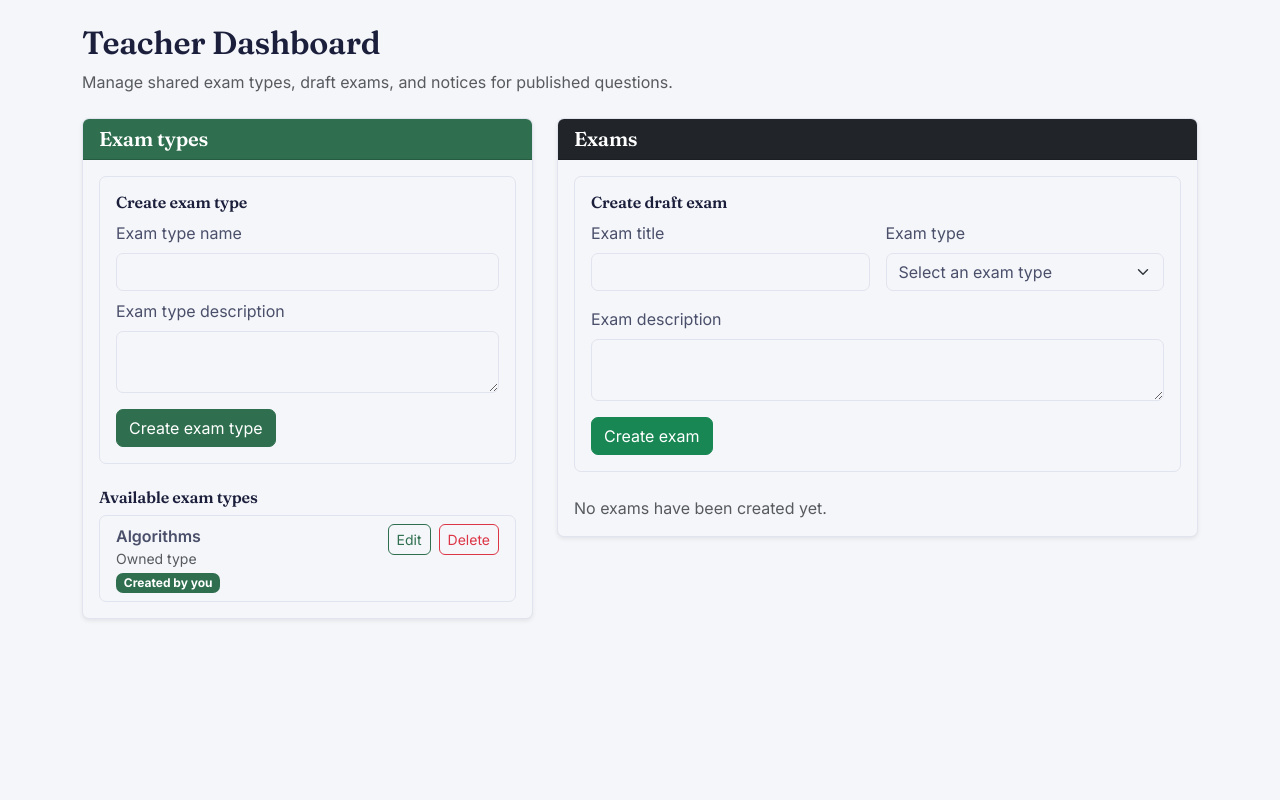
it: exam-type management › keeps the type visible when deletion returns a safe API error
Expected: the heading "Exam types" is shown, [99,126,208,151]
Click the button "Delete" at {"x": 469, "y": 539}, box [439,524,499,555]
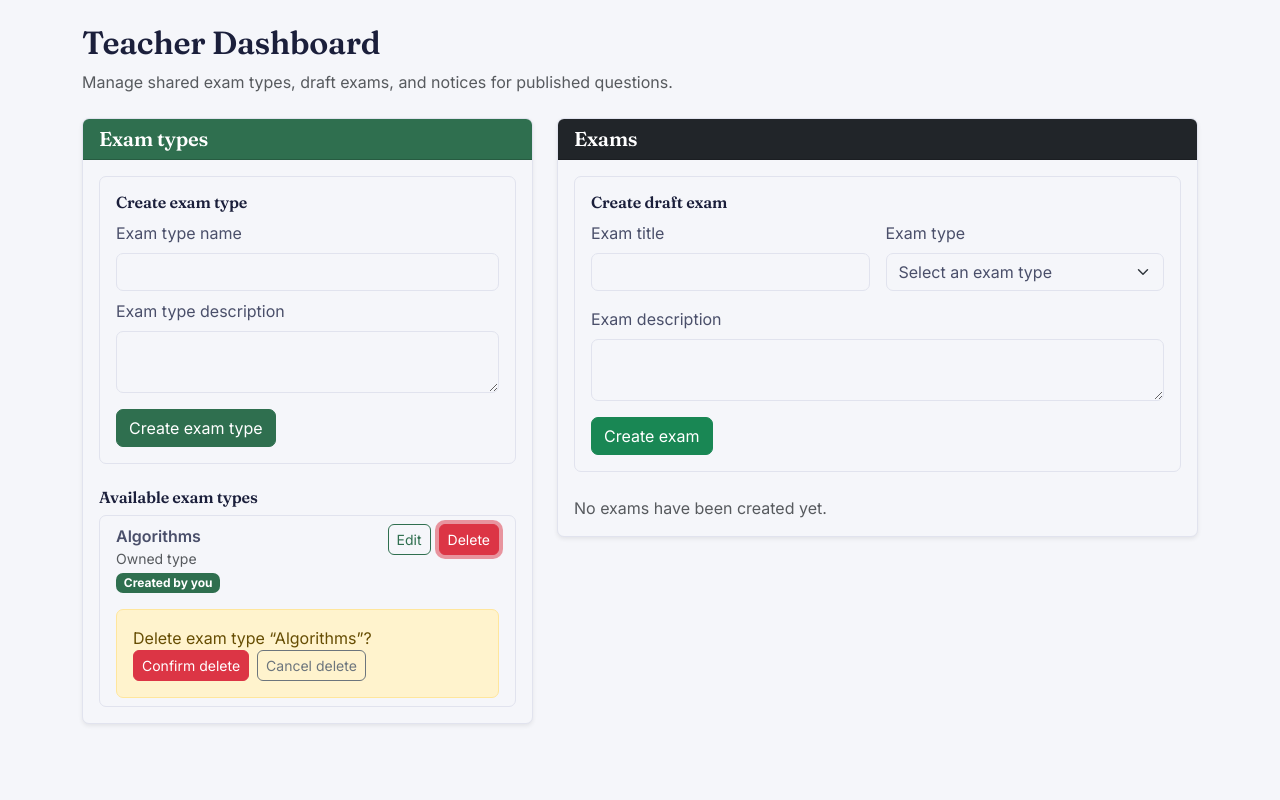
Click the button "Confirm delete" at {"x": 191, "y": 666}, box [133,650,249,681]
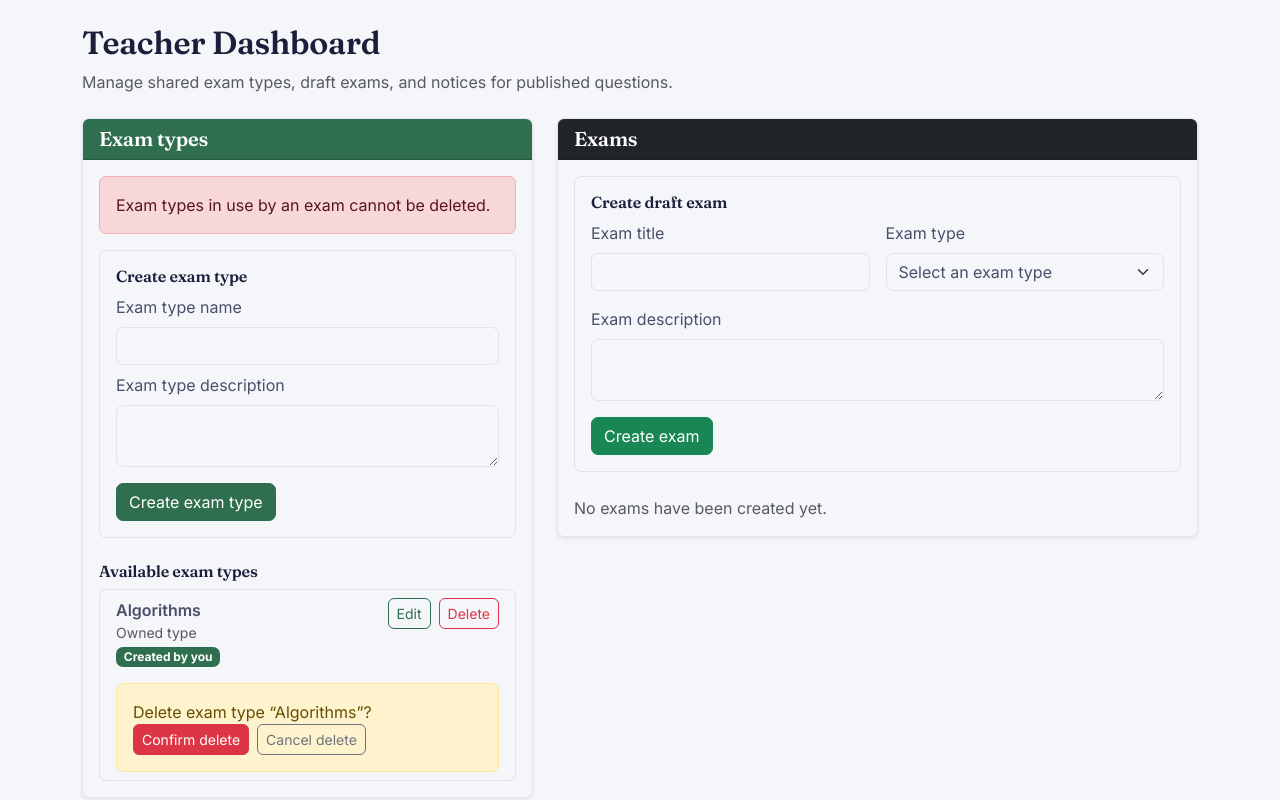
Expected: the text "Algorithms" is shown, [116,600,201,620]
Expected: the text "Exam types in use by an exam cannot be deleted." is shown, [99,176,516,234]
